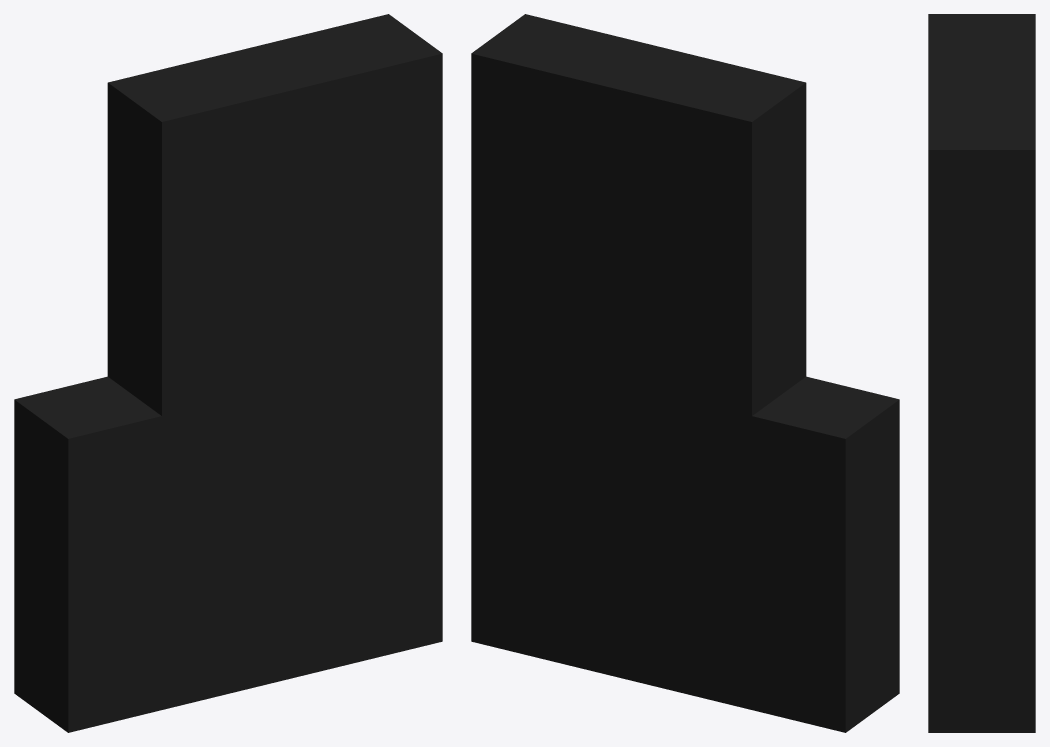
File: Animals-3.obj
3 views of the same model, side by side, from view 1: azimuth 30°, elevation 25°; view 2: azimuth 150°, elevation 25°; view 3: azimuth 270°, elevation 25° (orthographic).
Bounding box in the file's own units: 0.4 × 0.6 × 0.1.
1 material, 1 textured.
